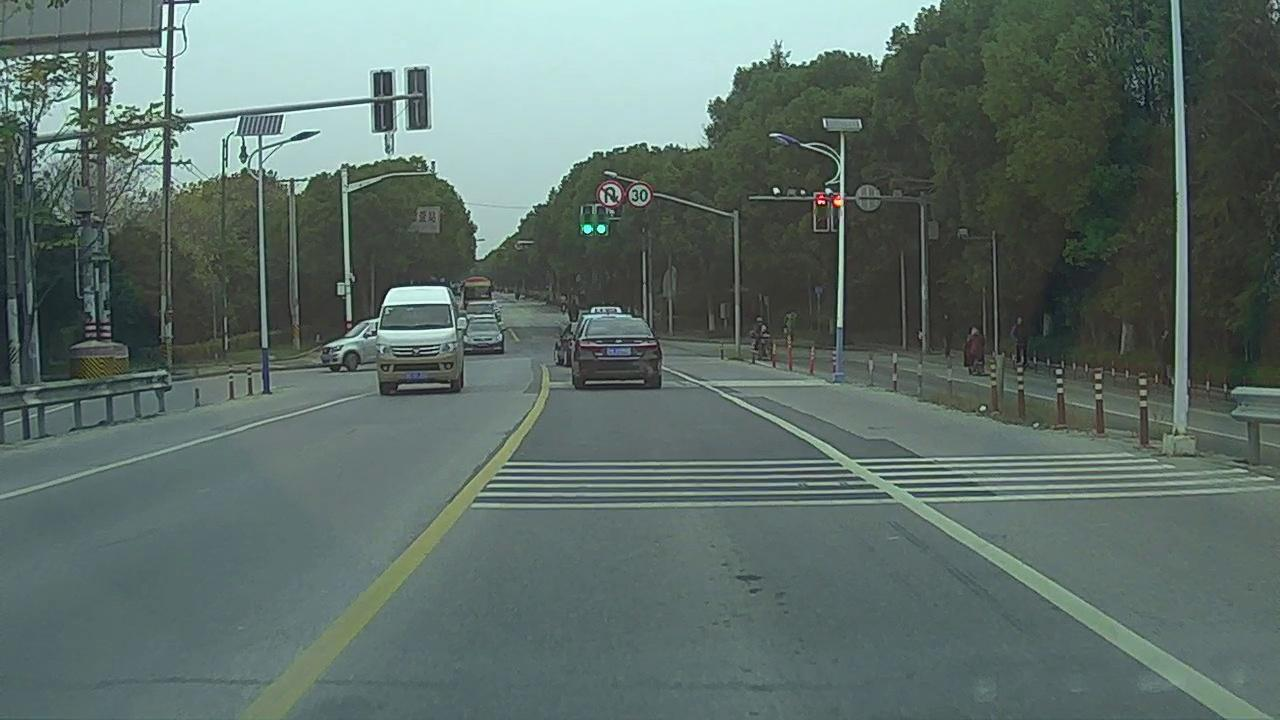traffic_light: (814, 196, 829, 231), (832, 194, 845, 230), (581, 208, 592, 235), (597, 208, 606, 235)
